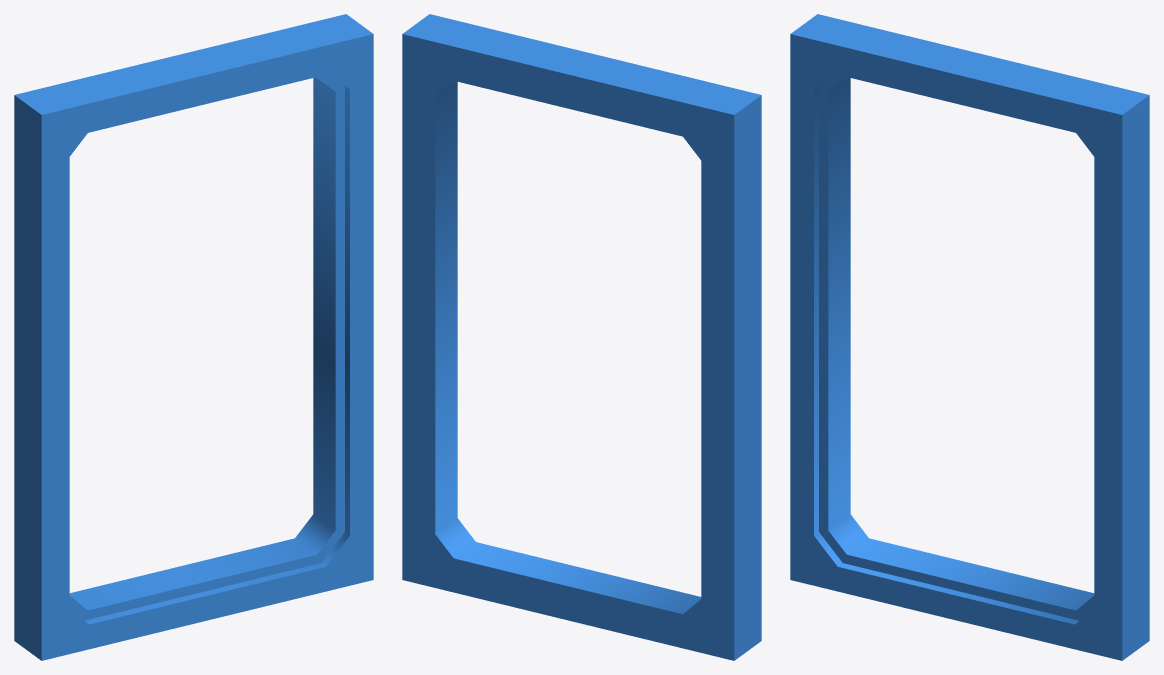
Rendered from doorFrame.fbx.
3 renders of one model, left to right at view 1: azimuth 30°, elevation 25°; view 2: azimuth 150°, elevation 25°; view 3: azimuth 330°, elevation 25°, orthographic.
Visible parts, largest first — view 1: doorFrame; view 2: doorFrame; view 3: doorFrame.
Boxes of the visible parts, x1,y1,x2,y2 form: doorFrame: [14, 14, 373, 660]; doorFrame: [402, 14, 761, 660]; doorFrame: [790, 14, 1149, 660].
Bounding box in the file's own units: 140 × 220 × 20.
